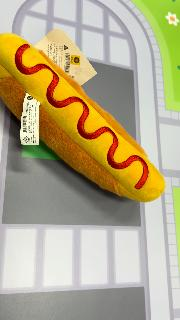hotdog: (2, 32, 166, 204)
